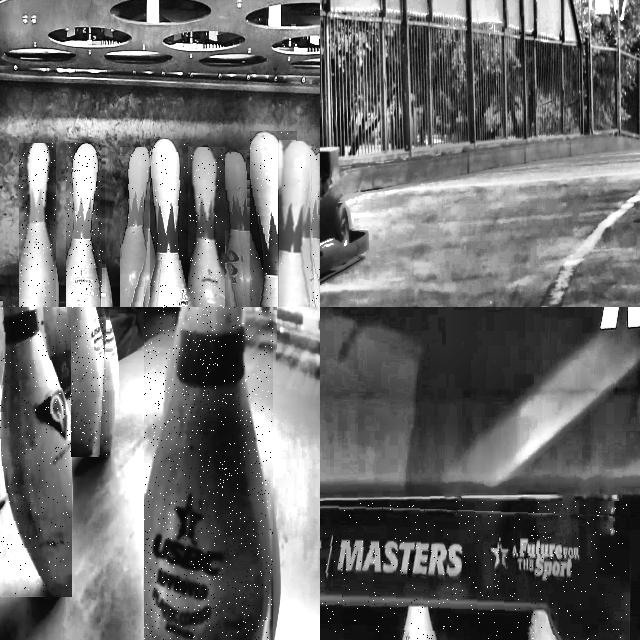bowling-pins: (144, 307, 273, 640), (0, 307, 71, 596), (251, 131, 296, 307), (148, 139, 190, 307), (19, 144, 56, 307), (67, 143, 103, 307), (70, 307, 107, 457), (189, 147, 223, 307), (281, 141, 313, 307), (120, 147, 150, 307), (226, 150, 248, 307), (398, 594, 437, 640), (311, 149, 320, 280)
sweep board: (320, 506, 627, 640)
